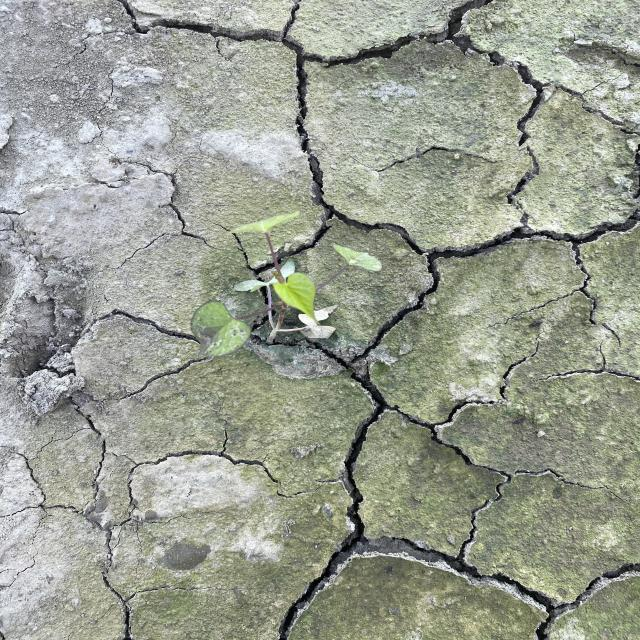MorningGlory: (188, 208, 386, 362)
